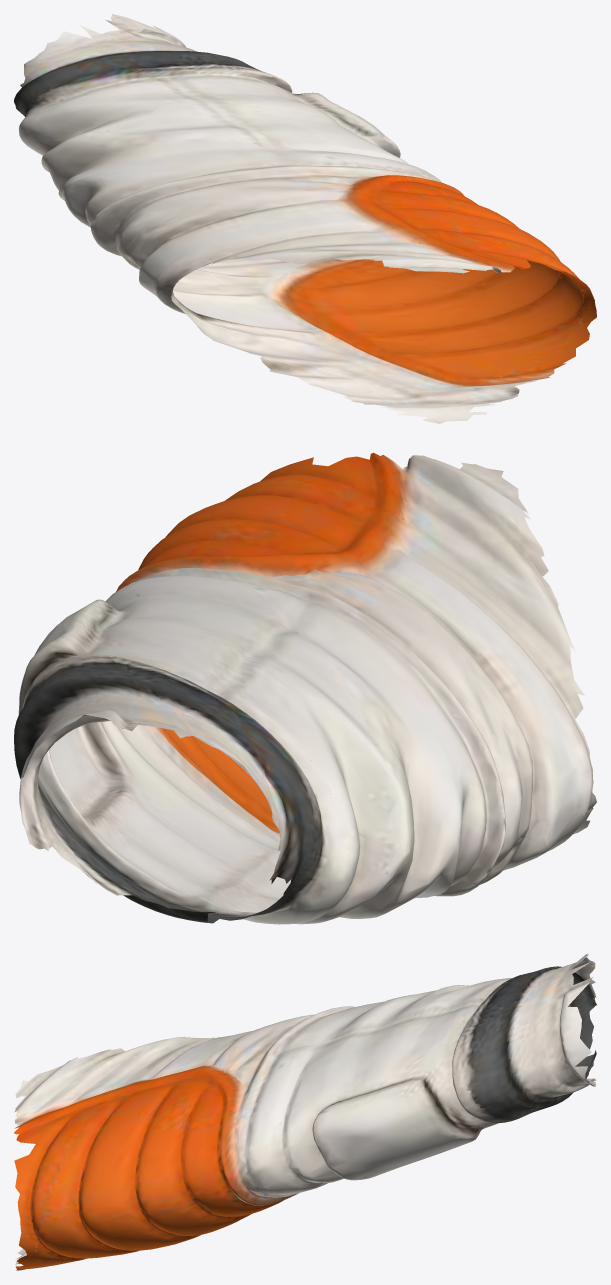
The model's file is ares-forearm.glb.
3 renders of one model, top to bottom at view 1: azimuth 30°, elevation 25°; view 2: azimuth 150°, elevation 25°; view 3: azimuth 270°, elevation 25°, orthographic. The views are drawn at different scales.
Parts seen in each view (by area): view 1: Ares forearm; view 2: Ares forearm; view 3: Ares forearm.
Boxes of the visible parts, box(x1,y1,x2,y2) form: Ares forearm: box(14, 14, 596, 423); Ares forearm: box(14, 452, 596, 924); Ares forearm: box(14, 953, 596, 1270).
Bounding box in the file's own units: 0.2923 × 0.1894 × 0.4269.
Materials: 1 (1 with a texture image).
